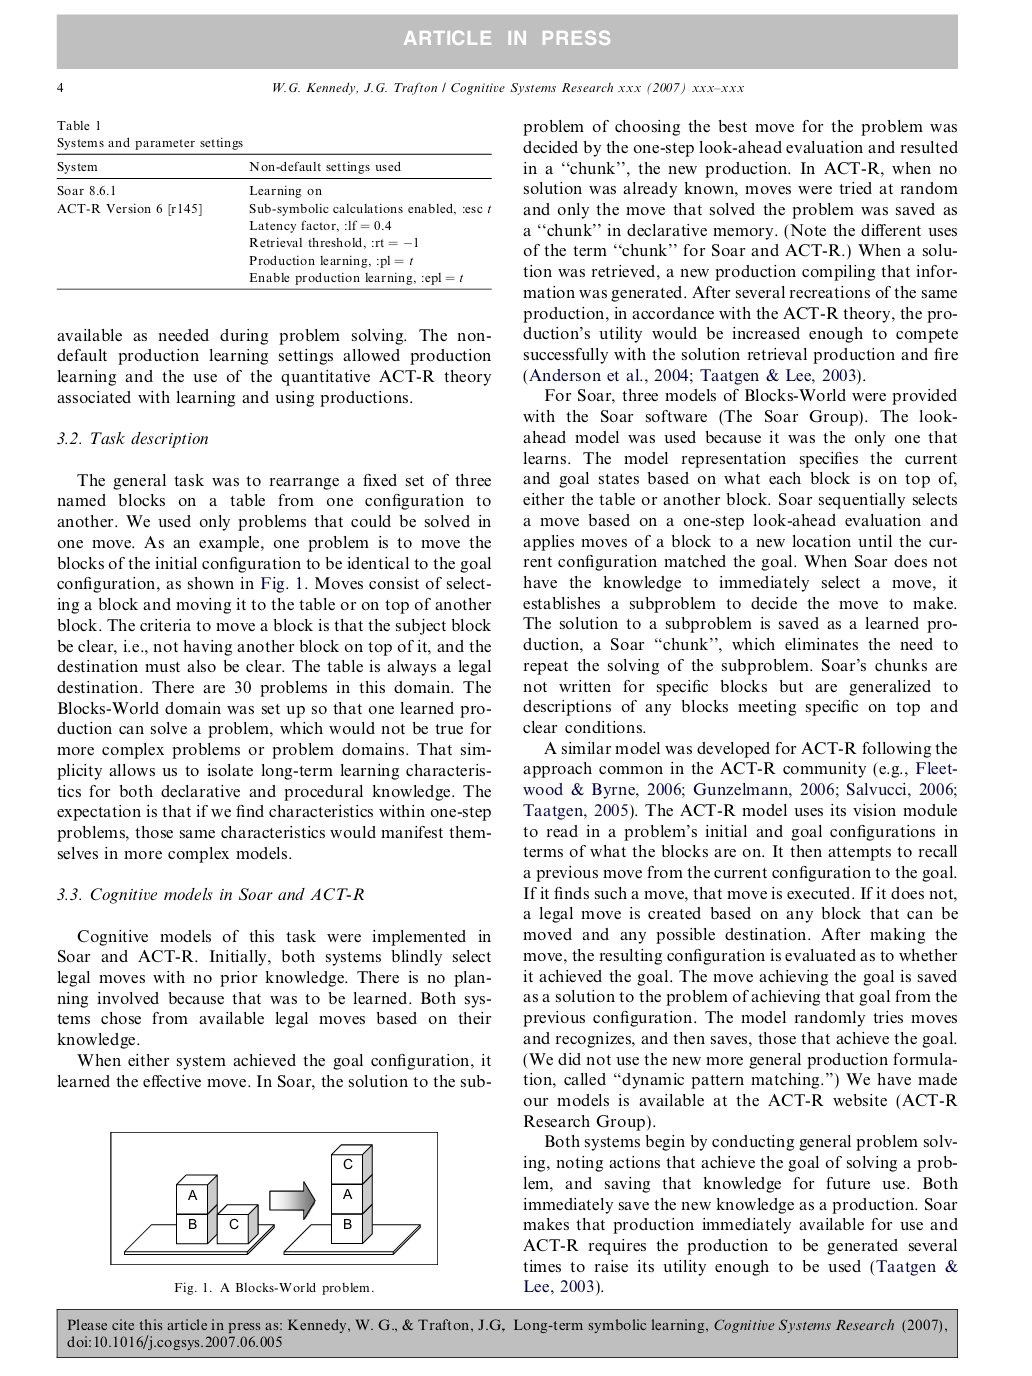Table: (56, 120, 491, 289)
figure: (56, 13, 957, 69), (56, 1308, 957, 1358), (109, 1131, 437, 1265)
